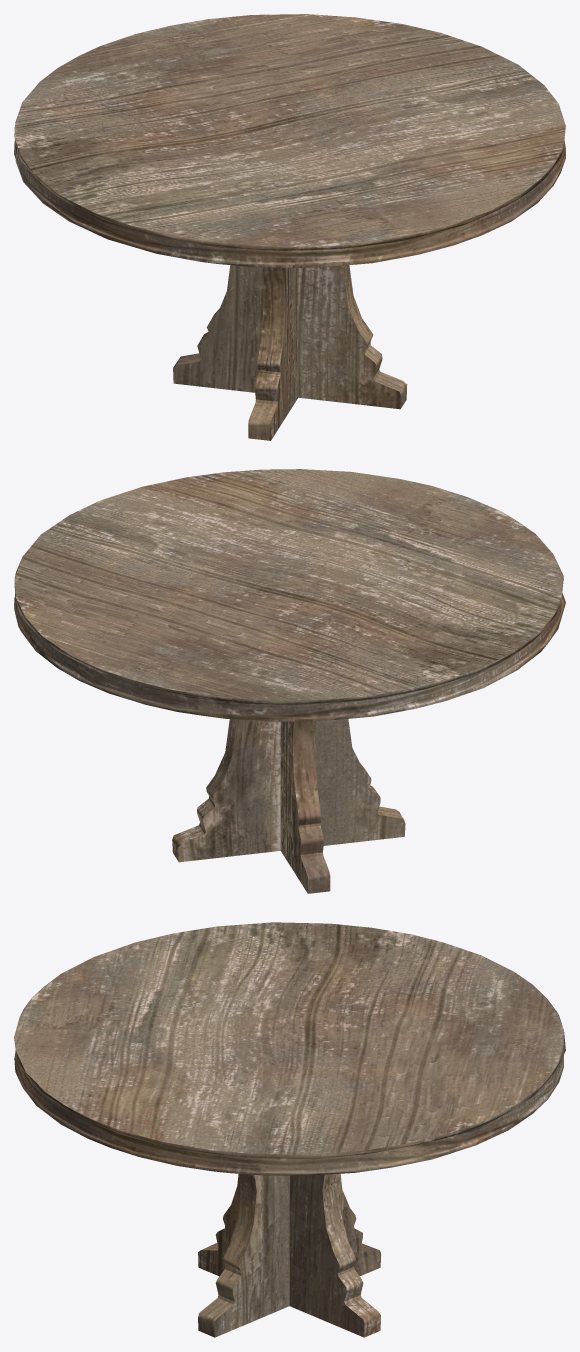
File: Round_SM_Table_Round.fbx
3 renders of one model, top to bottom at view 1: azimuth 30°, elevation 25°; view 2: azimuth 150°, elevation 25°; view 3: azimuth 270°, elevation 25°, orthographic.
Parts seen in each view (by area): view 1: Round_SM_Table_Round_LOD0; view 2: Round_SM_Table_Round_LOD0; view 3: Round_SM_Table_Round_LOD0.
Part boxes in pixels (left/top/right/bottom): Round_SM_Table_Round_LOD0: left=14, top=14, right=565, bottom=440; Round_SM_Table_Round_LOD0: left=14, top=469, right=565, bottom=893; Round_SM_Table_Round_LOD0: left=14, top=922, right=565, bottom=1337.
Size of the model in its own units: 152 by 153 by 79.59.
Materials: 1 (1 with a texture image).
